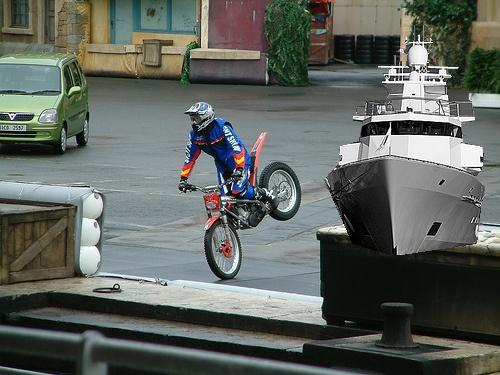tampered: (325, 26, 485, 255)
